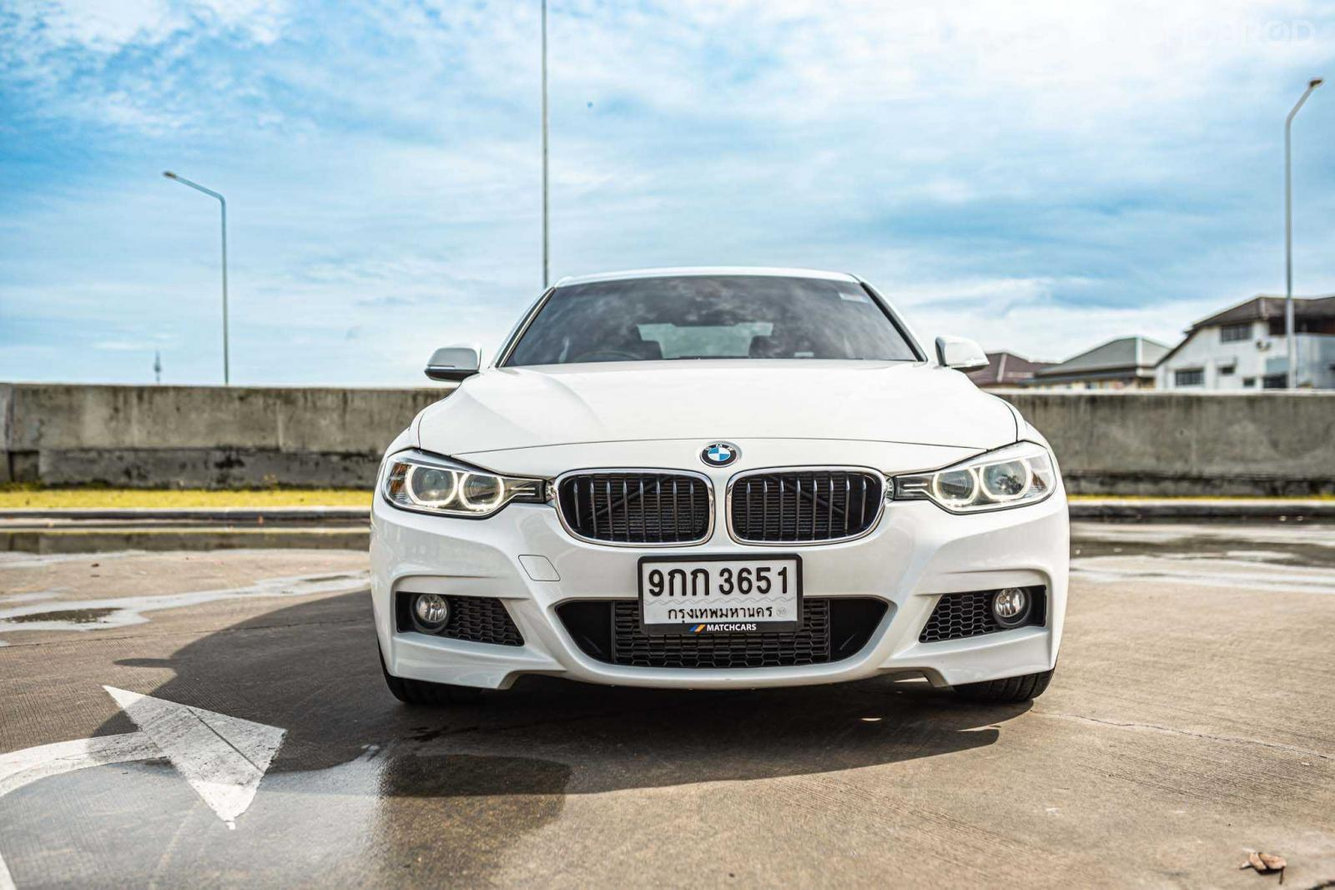license-plate: (635, 552, 806, 639)
